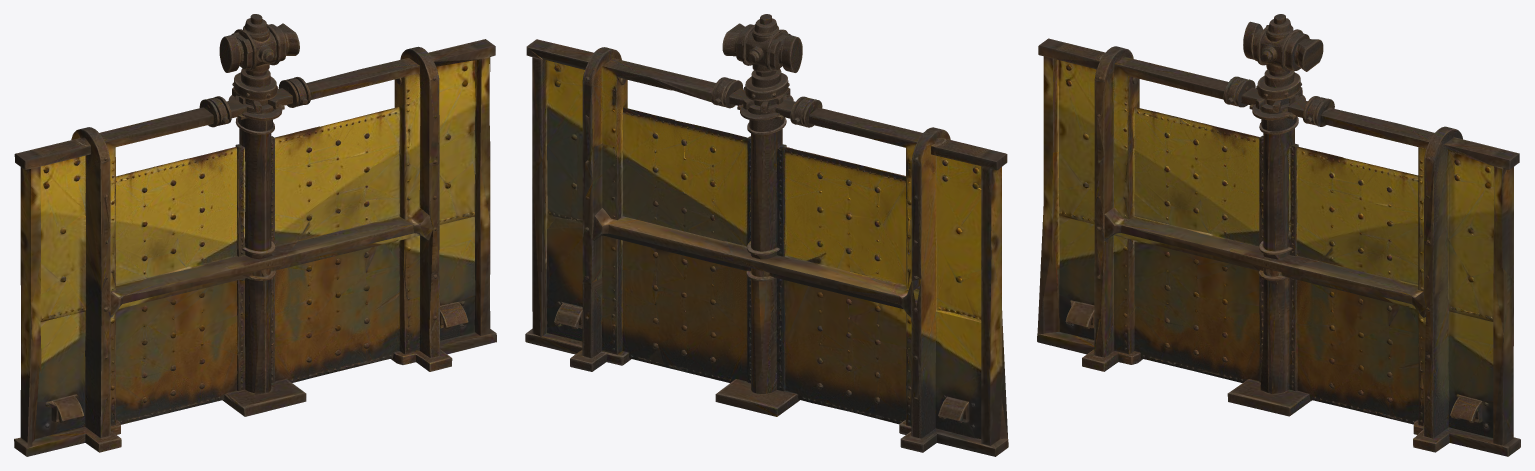
File: paratia.glb
The picture shows the model from 3 angles, left to right: view 1: azimuth 30°, elevation 25°; view 2: azimuth 150°, elevation 25°; view 3: azimuth 330°, elevation 25°; orthographic projection.
Parts seen in each view (by area): view 1: Mesh_0; view 2: Mesh_0; view 3: Mesh_0.
Boxes of the visible parts, <box> form: Mesh_0: <box>14,14,496,456</box>; Mesh_0: <box>525,14,1008,456</box>; Mesh_0: <box>1037,14,1520,456</box>.
Size of the model in its own units: 3.4 by 2.61 by 0.5118.
1 material, 1 textured.
